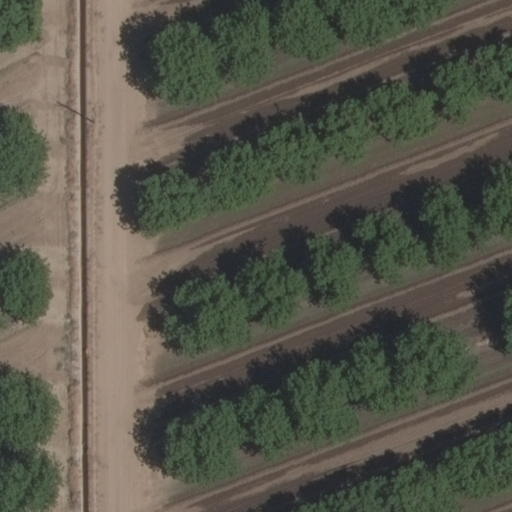DT: (77, 109, 101, 128)
